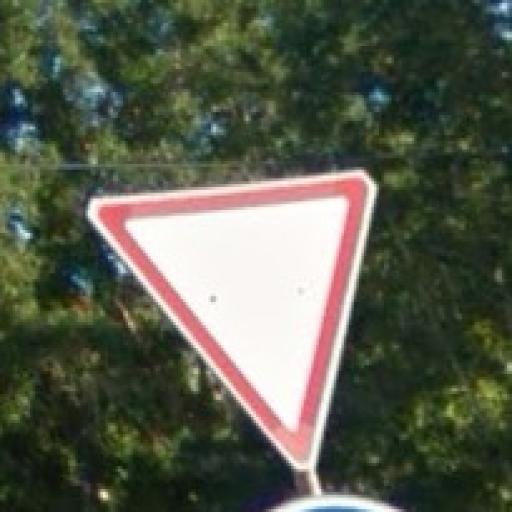traffic_sign: (86, 171, 380, 476)
